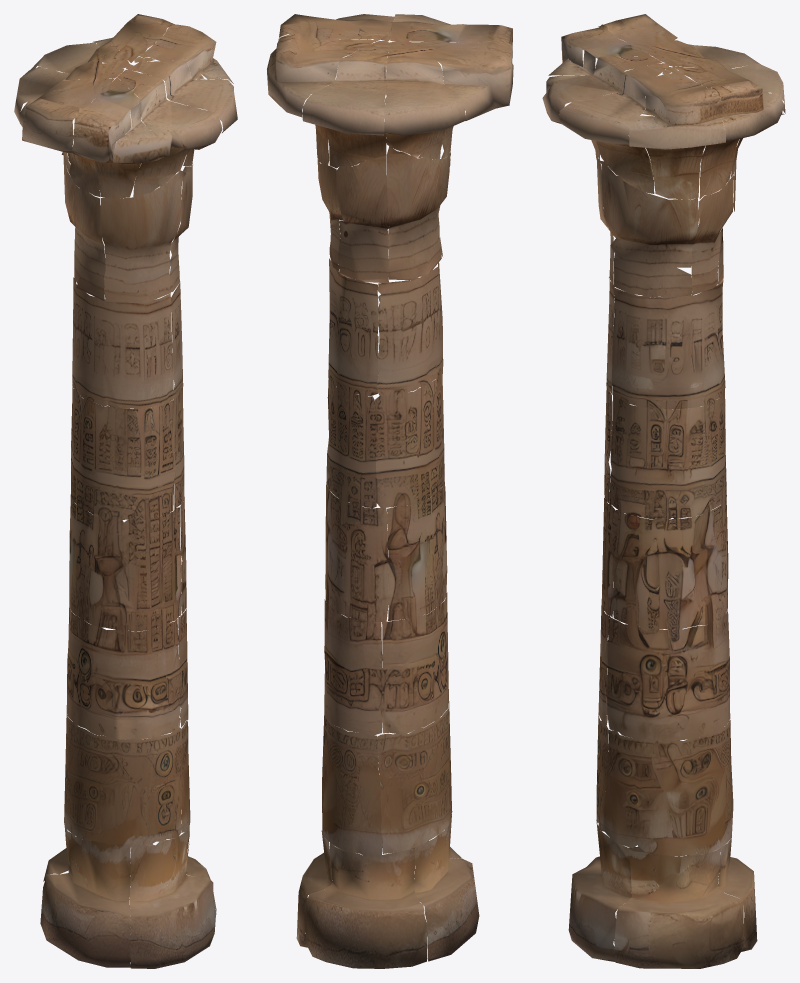
The model's file is Obelisk_1.glb.
3 renders of one model, left to right at view 1: azimuth 30°, elevation 25°; view 2: azimuth 150°, elevation 25°; view 3: azimuth 270°, elevation 25°, orthographic. The views are drawn at different scales.
Visible parts, largest first — view 1: tripo_node_cd491ec5-fb23-46ed-ba43-5ae893b73d8c.001; view 2: tripo_node_cd491ec5-fb23-46ed-ba43-5ae893b73d8c.001; view 3: tripo_node_cd491ec5-fb23-46ed-ba43-5ae893b73d8c.001.
Part boxes in pixels (x1=…): tripo_node_cd491ec5-fb23-46ed-ba43-5ae893b73d8c.001: x1=14, y1=14, x2=237, y2=968; tripo_node_cd491ec5-fb23-46ed-ba43-5ae893b73d8c.001: x1=267, y1=14, x2=513, y2=968; tripo_node_cd491ec5-fb23-46ed-ba43-5ae893b73d8c.001: x1=542, y1=14, x2=785, y2=968.
Size of the model in its own units: 3 by 12 by 3.
1 material, 1 textured.
